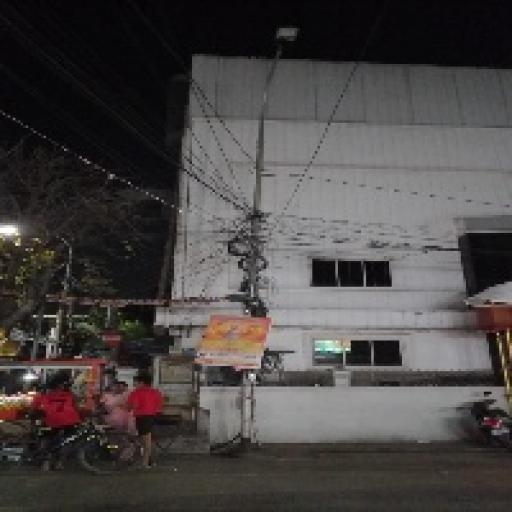Not Working: (267, 22, 305, 47)
